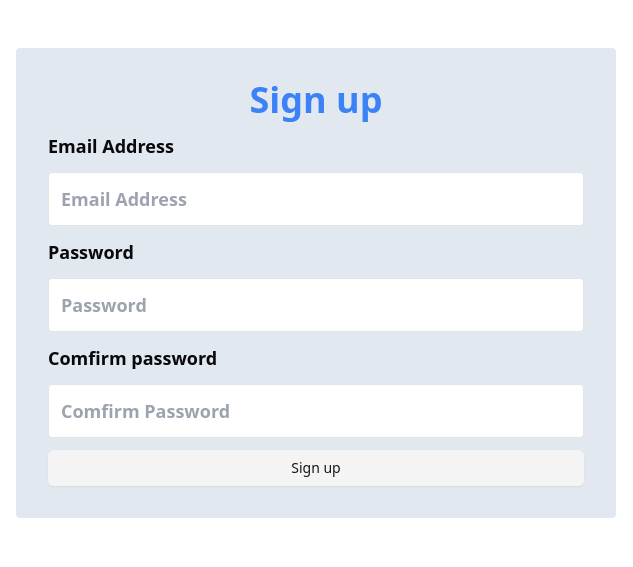
Test: sign up › Should show error for mismatched password
Type "test@example.com" into the field named "email".
click(316, 199); type("test@example.com")  # box [48,172,584,226]
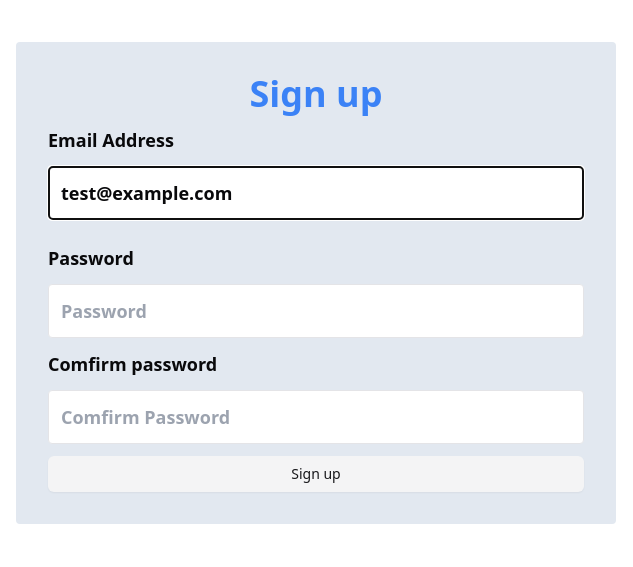
Type "Password@12345" into the password field named "password".
click(316, 311); type("Password@12345")  # box [48,284,584,338]
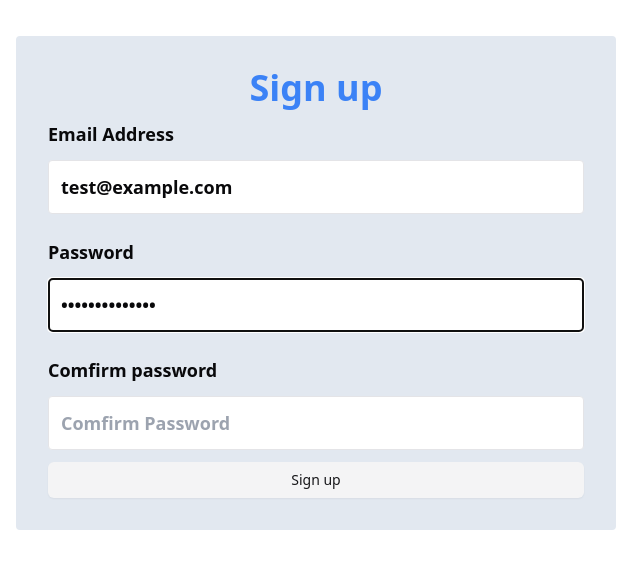
Type "Password@54321" into the password field named "cfpassword".
click(316, 423); type("Password@54321")  # box [48,396,584,450]
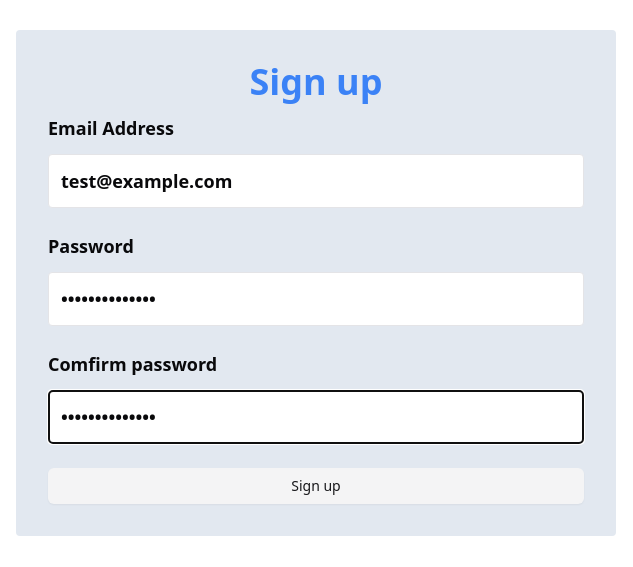
Click the submit button.
click(316, 486)  # box [48,468,584,504]
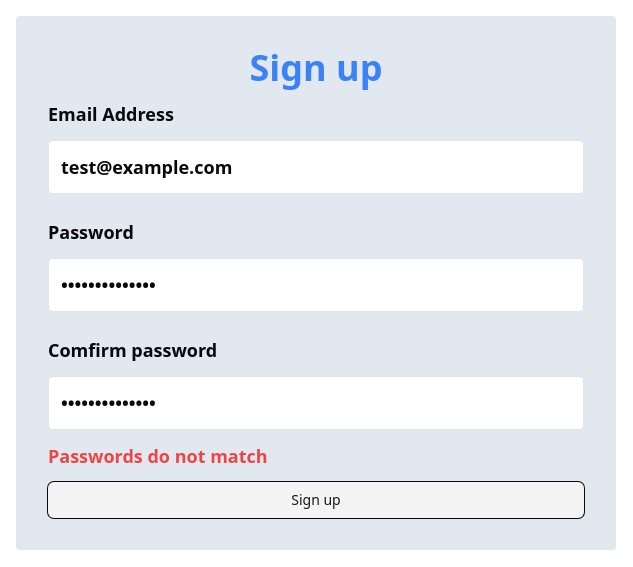
Result: the text "Passwords do not match" is shown at [48,444,268,468]
